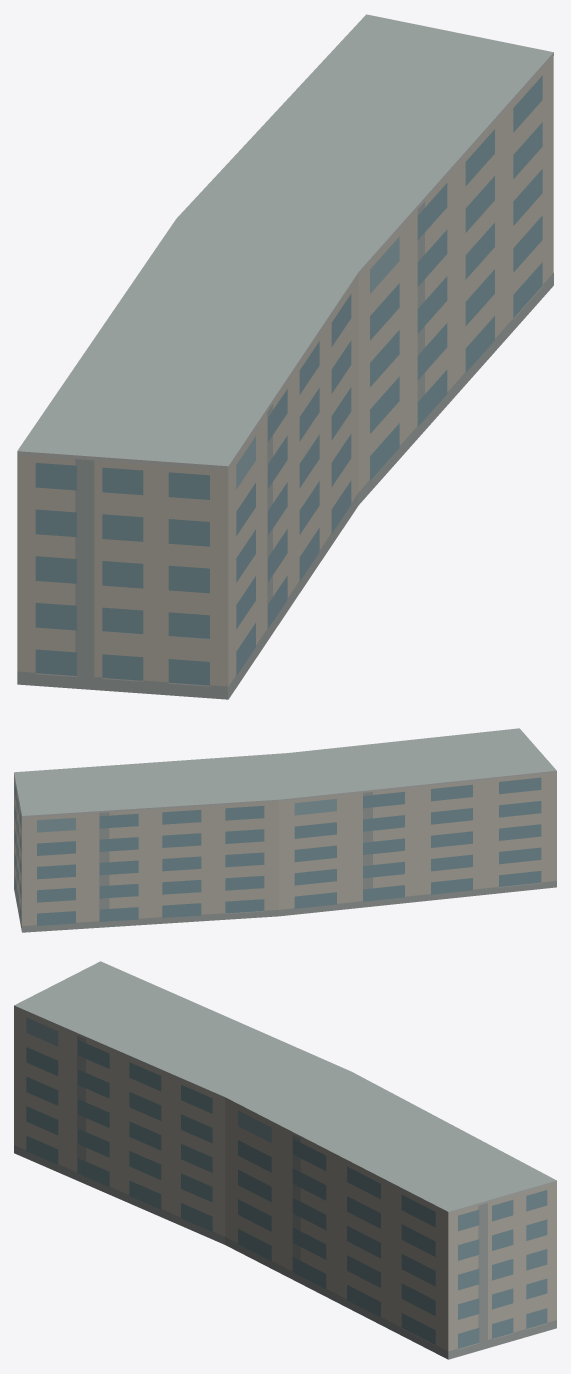
The model's file is residential-9472a2c3-e756-4de1-a44e-f276f0cc1305.glb.
3 renders of one model, top to bottom at view 1: azimuth 30°, elevation 25°; view 2: azimuth 150°, elevation 25°; view 3: azimuth 270°, elevation 25°, orthographic. The views are drawn at different scales.
Visible parts, largest first — view 1: residential-9472a2c3-e756-4de1-a44e-f276f0cc1305.tmp; view 2: residential-9472a2c3-e756-4de1-a44e-f276f0cc1305.tmp; view 3: residential-9472a2c3-e756-4de1-a44e-f276f0cc1305.tmp.
Boxes of the visible parts, box(x1,y1,x2,y2) form: residential-9472a2c3-e756-4de1-a44e-f276f0cc1305.tmp: box(17, 14, 553, 699); residential-9472a2c3-e756-4de1-a44e-f276f0cc1305.tmp: box(14, 728, 556, 932); residential-9472a2c3-e756-4de1-a44e-f276f0cc1305.tmp: box(14, 961, 556, 1359).
Bounding box in the file's own units: 55.49 × 15.25 × 50.78.
